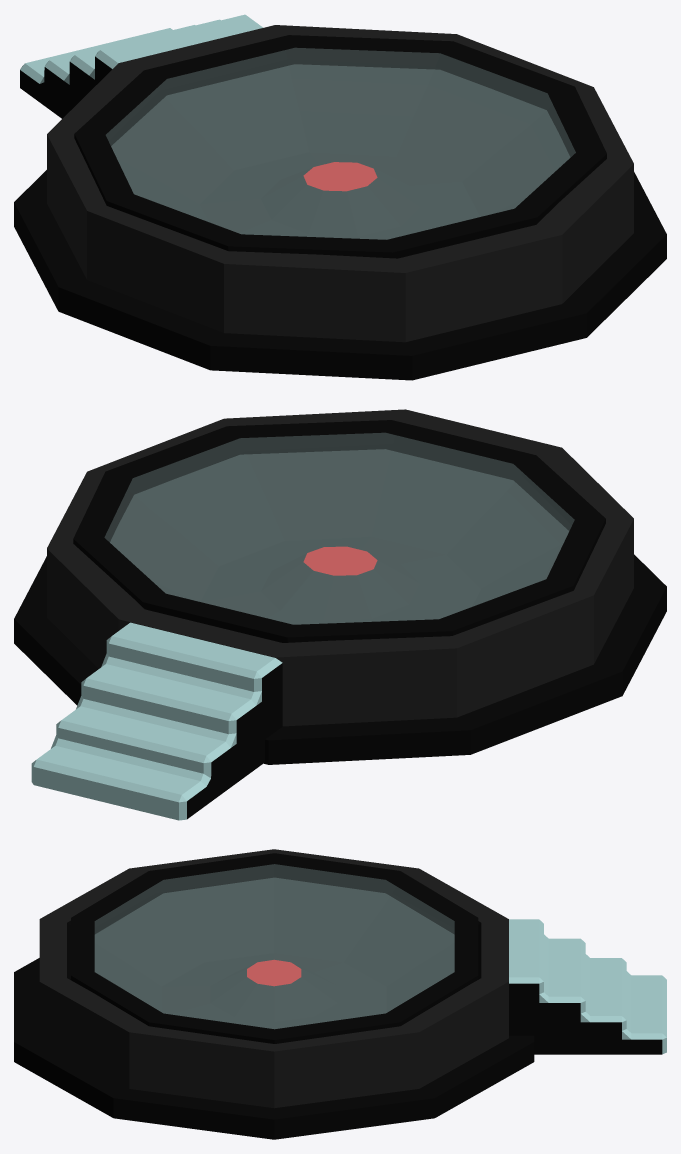
The model's file is Teleporter.fbx.
The picture shows the model from 3 angles, top to bottom: view 1: azimuth 30°, elevation 25°; view 2: azimuth 150°, elevation 25°; view 3: azimuth 270°, elevation 25°; orthographic projection. The views are drawn at different scales.
Visible parts, largest first — view 1: TeleHUB1, Platform; view 2: TeleHUB1, Platform; view 3: TeleHUB1, Platform.
Boxes of the visible parts, x1,y1,x2,y2 form: TeleHUB1: (14, 14, 666, 380); Platform: (74, 35, 606, 258); TeleHUB1: (14, 409, 666, 820); Platform: (73, 420, 605, 642); TeleHUB1: (14, 849, 666, 1139); Platform: (71, 853, 478, 1043).
Size of the model in its own units: 1628 by 272 by 1994.
